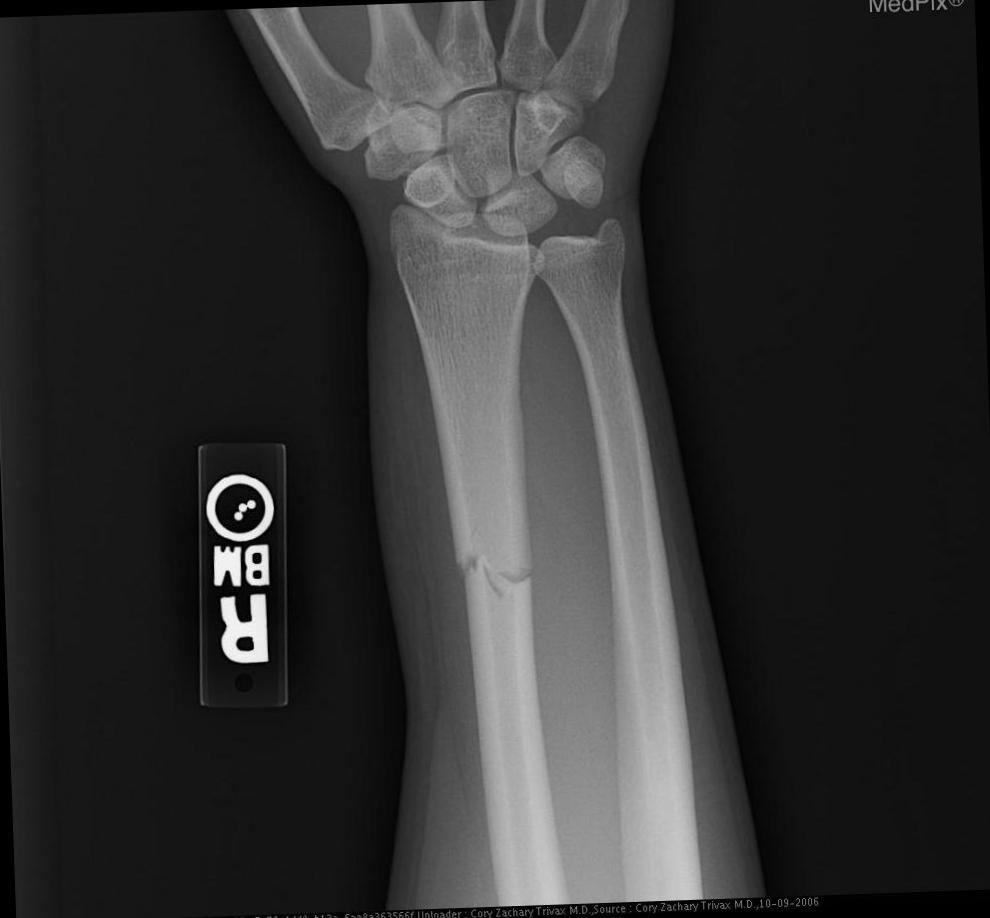line: (454, 544, 536, 596)
